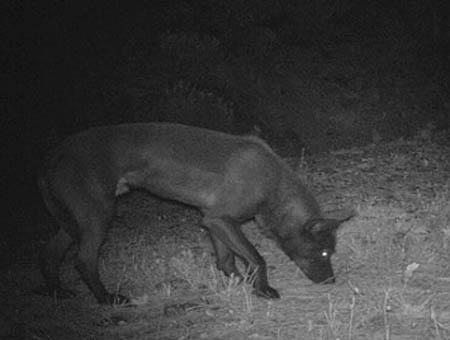Lobo: (43, 124, 347, 305)
